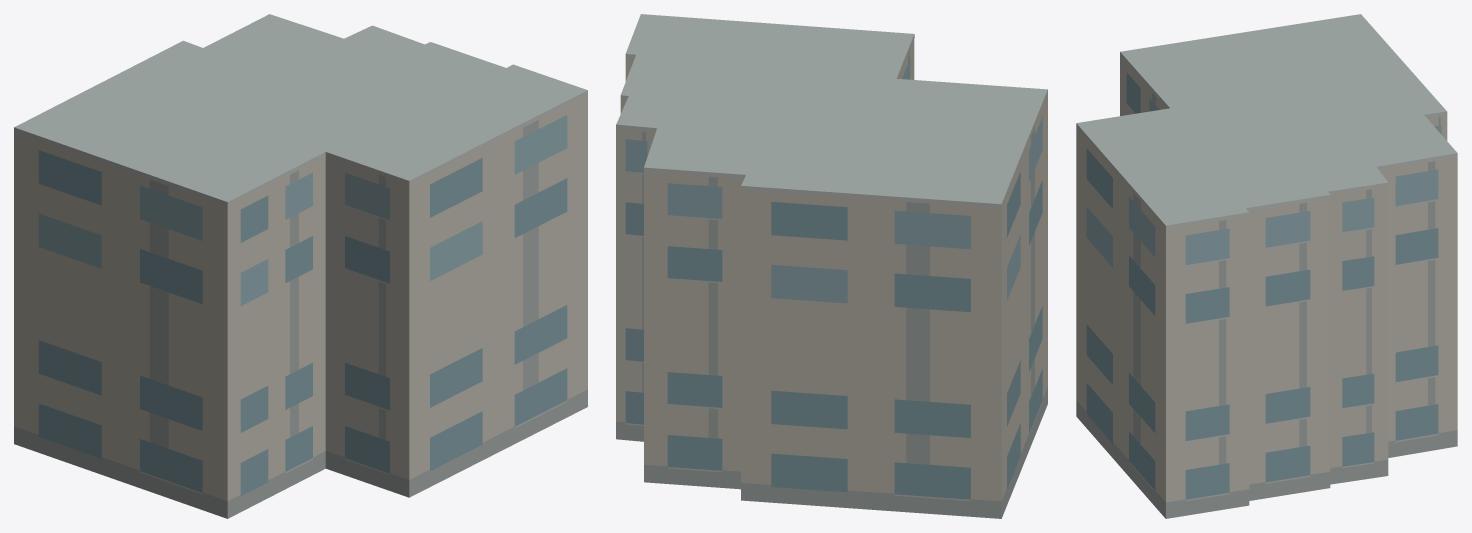
Rendered from survey-upis-32950850.glb.
3 renders of one model, left to right at view 1: azimuth 30°, elevation 25°; view 2: azimuth 150°, elevation 25°; view 3: azimuth 270°, elevation 25°, orthographic. The views are drawn at different scales.
Parts seen in each view (by area): view 1: survey-upis-32950850.tmp; view 2: survey-upis-32950850.tmp; view 3: survey-upis-32950850.tmp.
Part boxes in pixels (left/top/right/bottom): survey-upis-32950850.tmp: left=14, top=14, right=587, bottom=518; survey-upis-32950850.tmp: left=616, top=14, right=1047, bottom=518; survey-upis-32950850.tmp: left=1076, top=14, right=1457, bottom=518.
Bounding box in the file's own units: 26.38 × 17.04 × 20.09.
